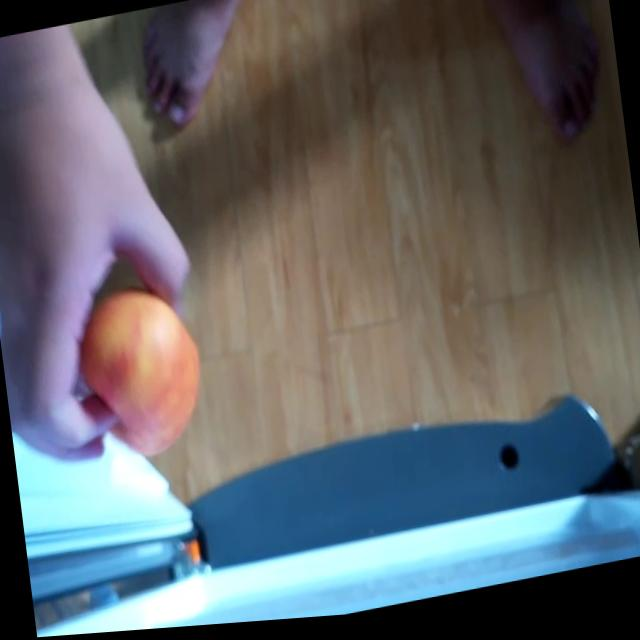apple: (69, 276, 214, 472)
